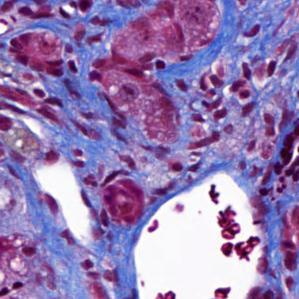inflammation: (236, 55, 282, 87), (24, 79, 69, 110), (183, 125, 226, 154)
